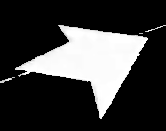Plane: (5, 18, 153, 123)
